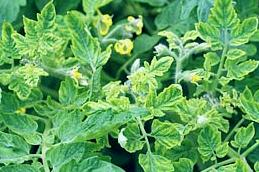Tomato leaf yellow virus: (63, 12, 111, 74), (151, 77, 187, 117), (148, 117, 187, 152), (194, 124, 229, 162), (134, 145, 177, 172), (208, 0, 237, 34), (227, 18, 259, 47), (220, 58, 258, 82), (231, 121, 256, 157), (7, 66, 32, 101), (141, 53, 177, 77), (0, 22, 22, 58), (233, 95, 259, 124), (35, 2, 60, 30), (31, 35, 70, 51), (190, 21, 218, 43)
